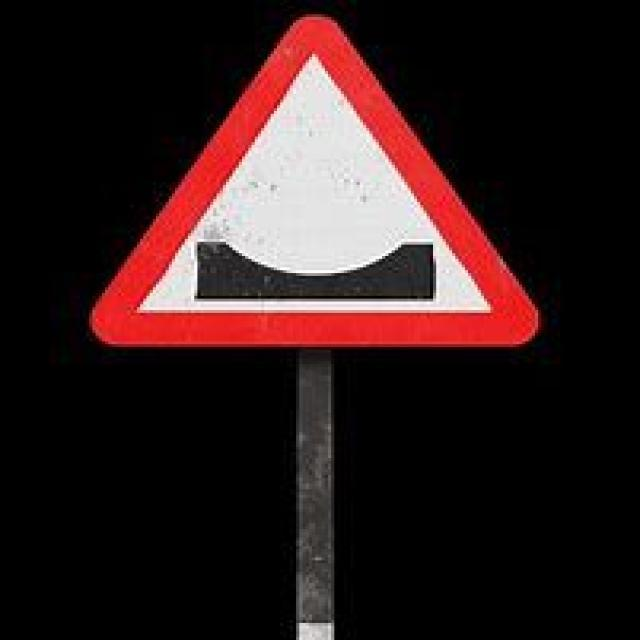dangerous dip: (87, 17, 545, 350)
